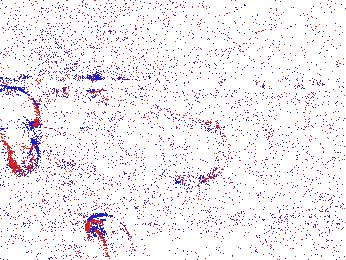flame jellyfish: (1, 88, 43, 177), (215, 206, 284, 260), (74, 213, 134, 260)
